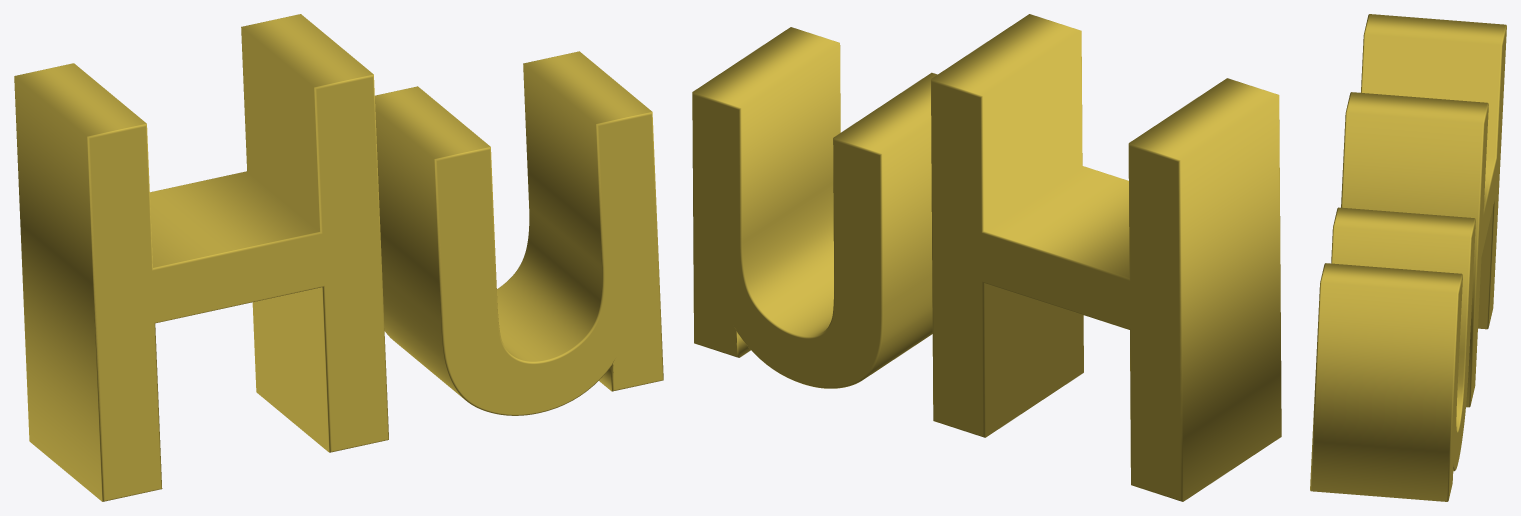
3 renders of one model, left to right at view 1: azimuth 30°, elevation 25°; view 2: azimuth 150°, elevation 25°; view 3: azimuth 270°, elevation 25°, orthographic. The views are drawn at different scales.
Visible parts, largest first — view 1: Text; view 2: Text; view 3: Text.
Boxes of the visible parts, bbox=[...] form: Text: bbox=[14, 14, 663, 501]; Text: bbox=[692, 14, 1281, 501]; Text: bbox=[1310, 14, 1506, 501].
Bounding box in the file's own units: 220 × 142 × 86.66.
